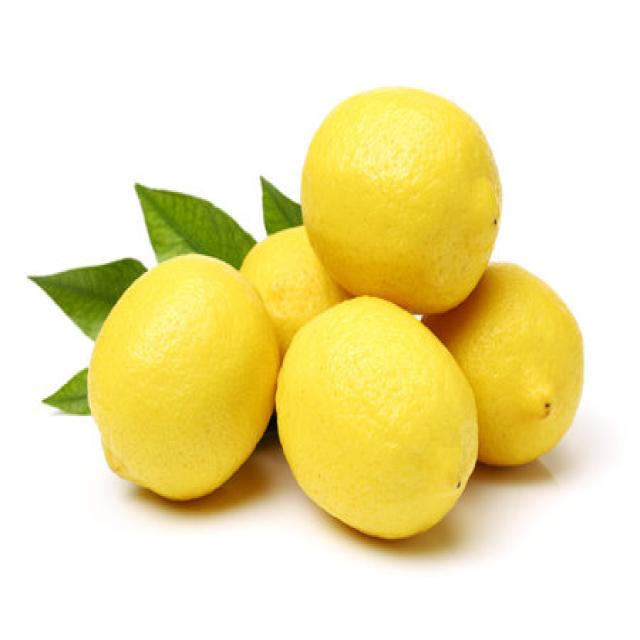Lemon: (273, 293, 478, 539), (87, 251, 279, 501), (299, 83, 502, 314), (422, 260, 584, 468), (238, 222, 347, 354)
